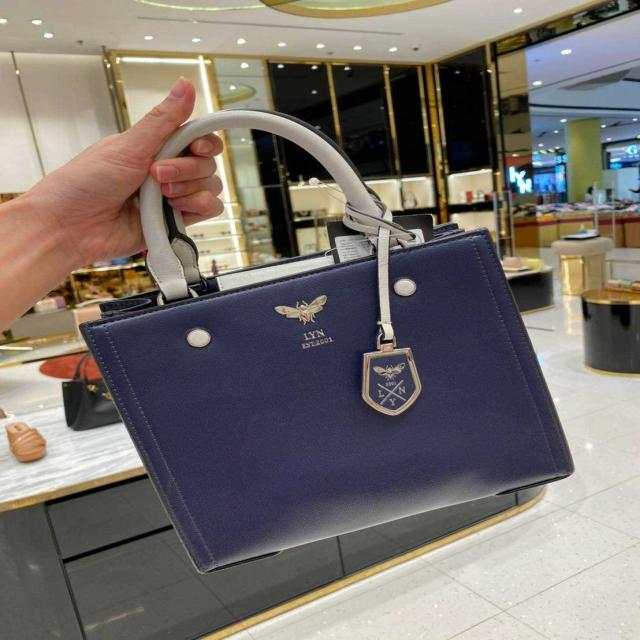Handbag: (81, 209, 580, 576)
